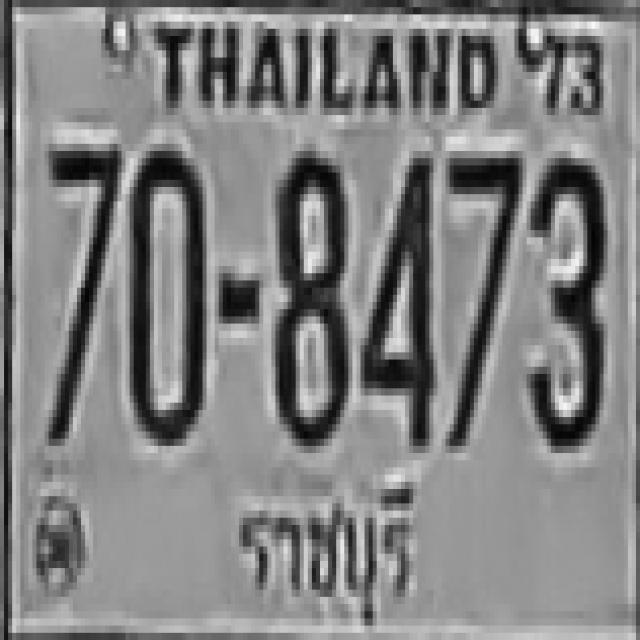Ratchaburi: (228, 464, 442, 640)
